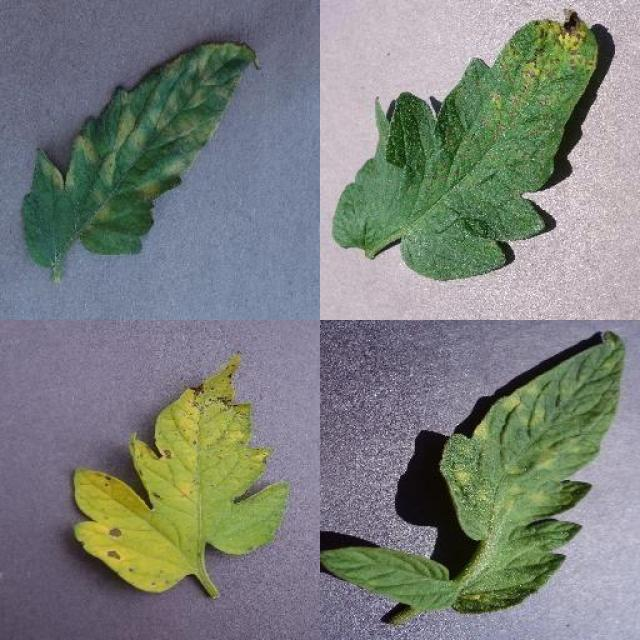Septoria: (332, 8, 598, 284), (70, 353, 290, 595)
